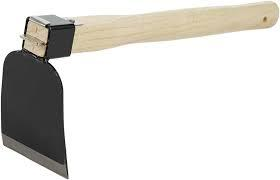HOUE: (0, 9, 280, 180)
